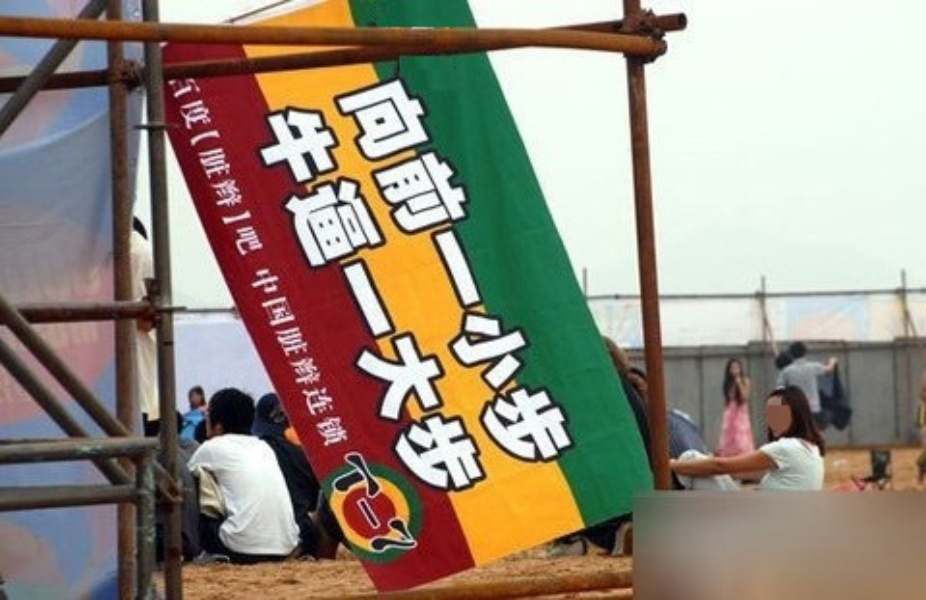text: (321, 83, 336, 519), (337, 83, 352, 519), (353, 83, 368, 519), (369, 83, 384, 519), (385, 83, 400, 519), (401, 83, 416, 519), (417, 83, 432, 519), (433, 83, 448, 519), (449, 83, 464, 519), (465, 83, 480, 519), (481, 83, 496, 519), (417, 58, 432, 485), (433, 58, 448, 485), (449, 58, 464, 485), (465, 58, 480, 485), (481, 58, 496, 485), (497, 58, 512, 485), (513, 58, 528, 485), (529, 58, 544, 485), (545, 58, 560, 485), (561, 58, 576, 485), (577, 58, 585, 485), (409, 58, 416, 485), (193, 68, 208, 263), (209, 68, 224, 263), (225, 68, 240, 263), (241, 68, 256, 263), (289, 263, 304, 452), (305, 263, 320, 452), (321, 263, 336, 452), (337, 263, 352, 452), (257, 68, 271, 263), (274, 263, 288, 452), (369, 444, 384, 566), (385, 444, 400, 566), (401, 444, 416, 566), (357, 444, 368, 566), (417, 444, 423, 566), (191, 68, 192, 263), (353, 263, 354, 452)
